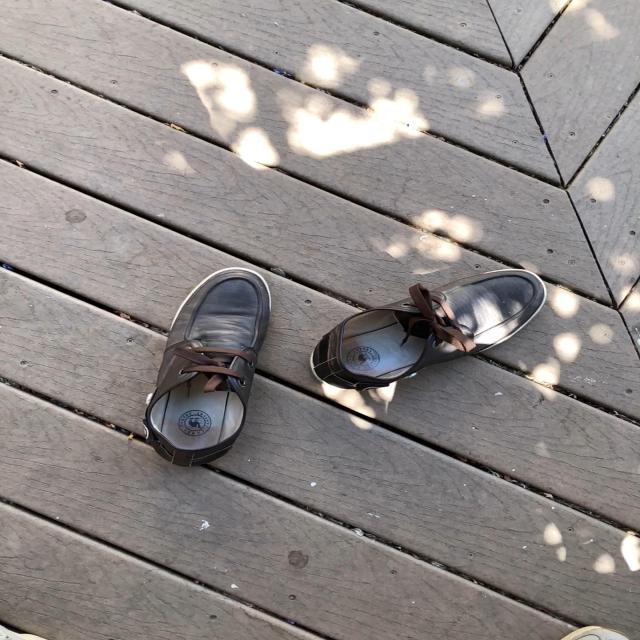shoe: (309, 269, 547, 403), (143, 270, 271, 466)
